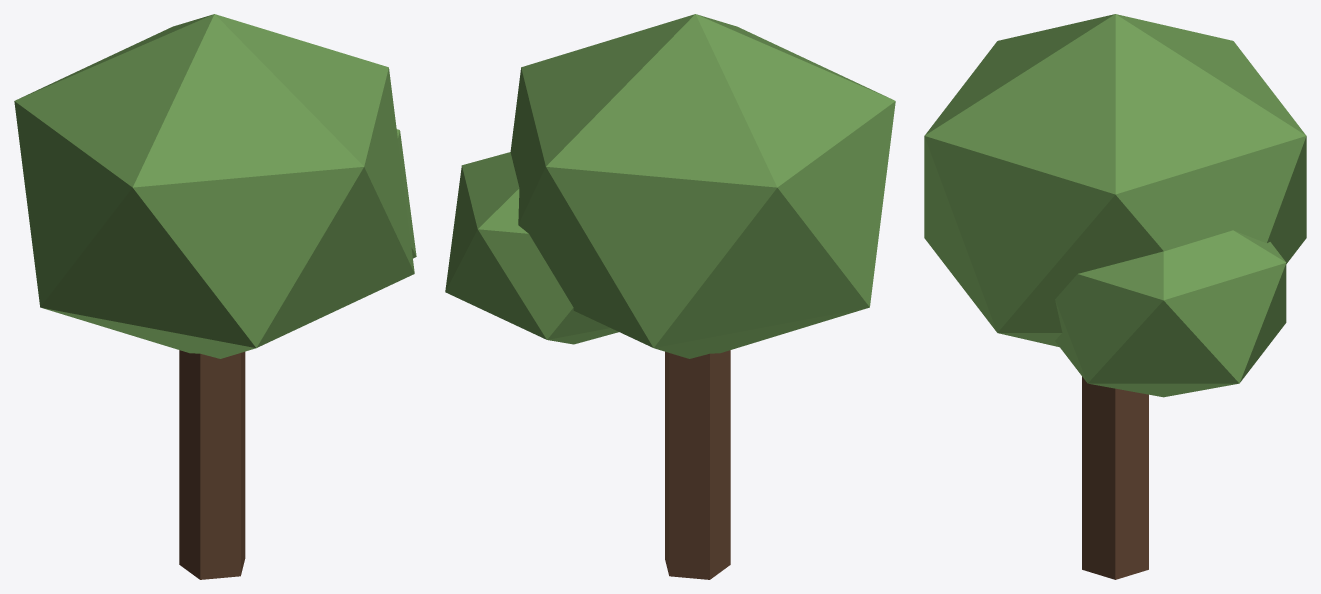
File: tree_round.fbx
3 renders of one model, left to right at view 1: azimuth 30°, elevation 25°; view 2: azimuth 150°, elevation 25°; view 3: azimuth 270°, elevation 25°, orthographic.
Visible parts, largest first — view 1: tree_round; view 2: tree_round; view 3: tree_round.
Boxes of the visible parts, x1,y1,x2,y2 form: tree_round: (14,14,416,579); tree_round: (445,14,895,579); tree_round: (924,14,1306,579).
Bounding box in the file's own units: 2.76 × 3.79 × 2.38.
1 material, 1 textured.
